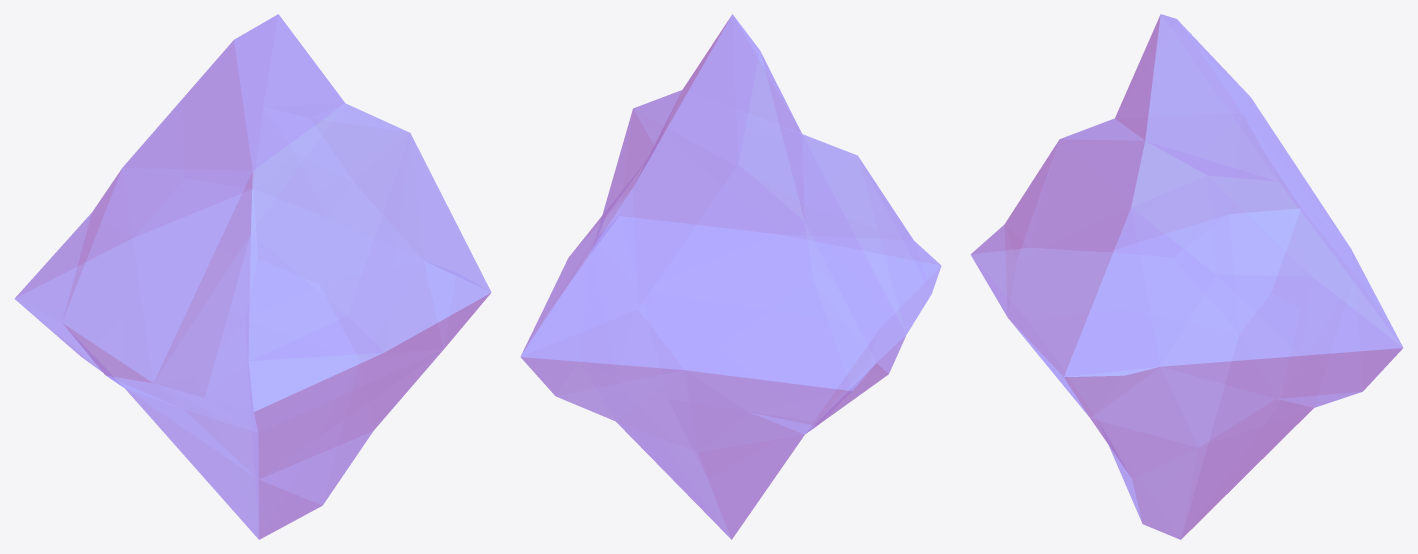
The model's file is gem.glb.
The picture shows the model from 3 angles, left to right: view 1: azimuth 30°, elevation 25°; view 2: azimuth 150°, elevation 25°; view 3: azimuth 270°, elevation 25°; orthographic projection. The views are drawn at different scales.
Visible parts, largest first — view 1: Gem; view 2: Gem; view 3: Gem.
Boxes of the visible parts, bbox=[...] form: Gem: bbox=[14, 14, 491, 539]; Gem: bbox=[520, 14, 941, 539]; Gem: bbox=[970, 14, 1403, 539].
Size of the model in its own units: 0.3441 by 0.4873 by 0.3605.
1 material, 1 textured.
